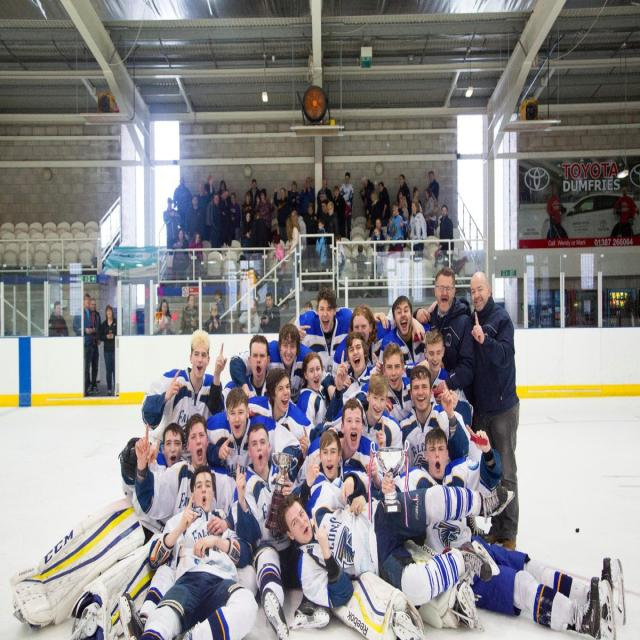body: (379, 422, 630, 640), (295, 428, 486, 638), (115, 411, 260, 639), (274, 483, 516, 611), (225, 419, 333, 639), (138, 464, 260, 640), (464, 269, 522, 554), (204, 385, 311, 482), (204, 386, 311, 480), (412, 264, 476, 406), (292, 285, 390, 377), (228, 321, 338, 402), (293, 396, 384, 493), (118, 422, 187, 546), (330, 302, 426, 389), (396, 365, 471, 476), (140, 328, 215, 438), (319, 370, 405, 450), (210, 332, 276, 417), (325, 330, 377, 423), (374, 294, 432, 376), (524, 286, 639, 326), (71, 292, 99, 398), (295, 350, 330, 428), (382, 342, 416, 422), (417, 328, 453, 388), (99, 303, 118, 397), (371, 250, 469, 268), (87, 296, 103, 396), (612, 185, 638, 238), (230, 256, 262, 298), (285, 214, 302, 292), (171, 175, 193, 231), (348, 242, 369, 300), (271, 233, 287, 309), (162, 197, 182, 256), (171, 226, 190, 288), (408, 199, 427, 260), (338, 171, 354, 242), (388, 200, 408, 253), (253, 187, 276, 233), (291, 208, 307, 274), (332, 184, 351, 238), (207, 191, 223, 254), (314, 216, 330, 278), (272, 186, 290, 241), (259, 291, 282, 334), (546, 185, 564, 239), (217, 186, 230, 258), (184, 194, 203, 243), (422, 187, 440, 237), (238, 297, 262, 334), (301, 301, 318, 353), (178, 293, 199, 335), (152, 298, 174, 336), (48, 300, 70, 337), (377, 180, 391, 238), (358, 175, 375, 221), (326, 200, 341, 252), (396, 174, 412, 222), (438, 204, 454, 251), (250, 217, 269, 255), (299, 175, 316, 217), (316, 175, 334, 213), (302, 202, 318, 244), (368, 190, 382, 238), (204, 304, 226, 334), (228, 191, 241, 241), (370, 216, 388, 252), (240, 210, 253, 253), (187, 230, 204, 262), (270, 230, 285, 266), (239, 190, 255, 223), (333, 232, 346, 272), (214, 288, 228, 321), (246, 178, 262, 205), (288, 180, 300, 216), (427, 170, 440, 203), (372, 225, 386, 252), (320, 198, 330, 234), (411, 186, 424, 213), (398, 195, 409, 225), (397, 210, 411, 233), (206, 197, 212, 245), (454, 268, 470, 286), (204, 174, 215, 196), (216, 178, 229, 196), (397, 189, 408, 209), (197, 182, 205, 204)
